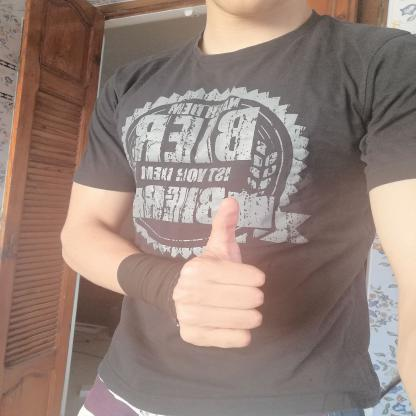ALIF: (159, 185, 281, 355)
